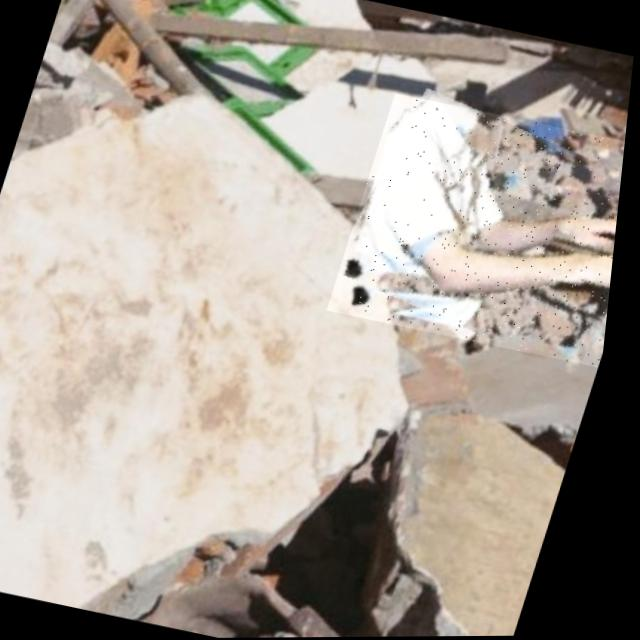Person in Rubble: (328, 92, 632, 370)
